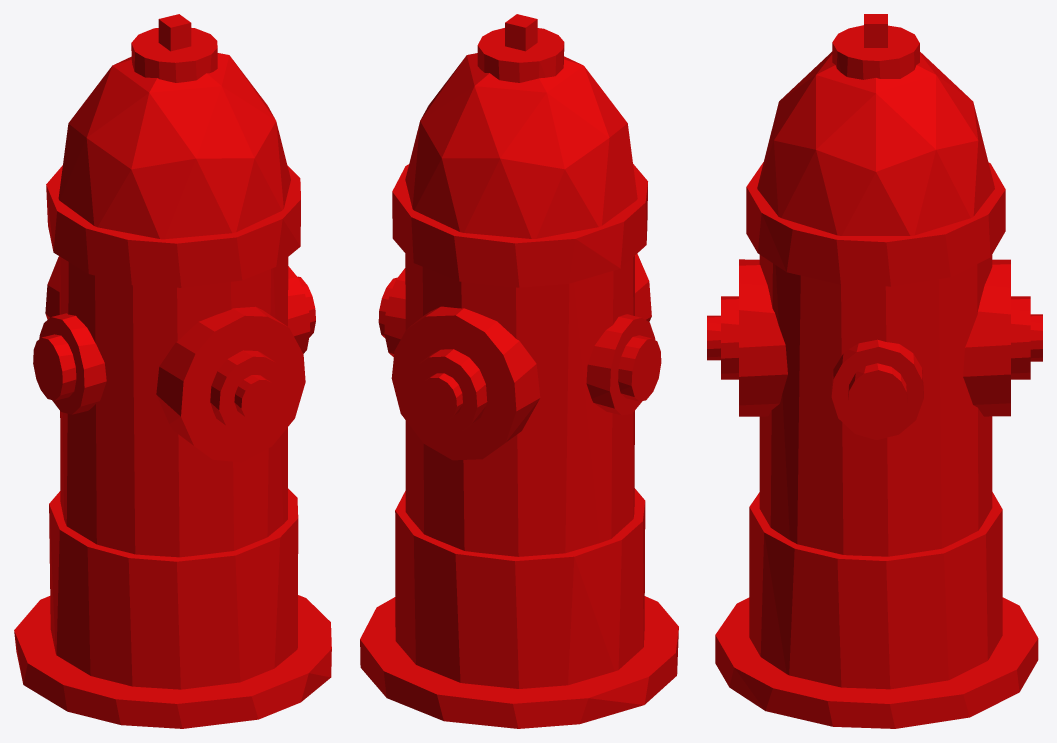
File: Fire Hydrant.fbx
The picture shows the model from 3 angles, left to right: view 1: azimuth 30°, elevation 25°; view 2: azimuth 150°, elevation 25°; view 3: azimuth 270°, elevation 25°; orthographic projection.
Parts seen in each view (by area): view 1: Fire Hydrant; view 2: Fire Hydrant; view 3: Fire Hydrant.
Boxes of the visible parts, box(x1,y1,x2,y2) form: Fire Hydrant: box(14, 14, 331, 728); Fire Hydrant: box(360, 14, 678, 728); Fire Hydrant: box(707, 14, 1042, 728).
Size of the model in its own units: 35.47 by 78.82 by 37.34.
